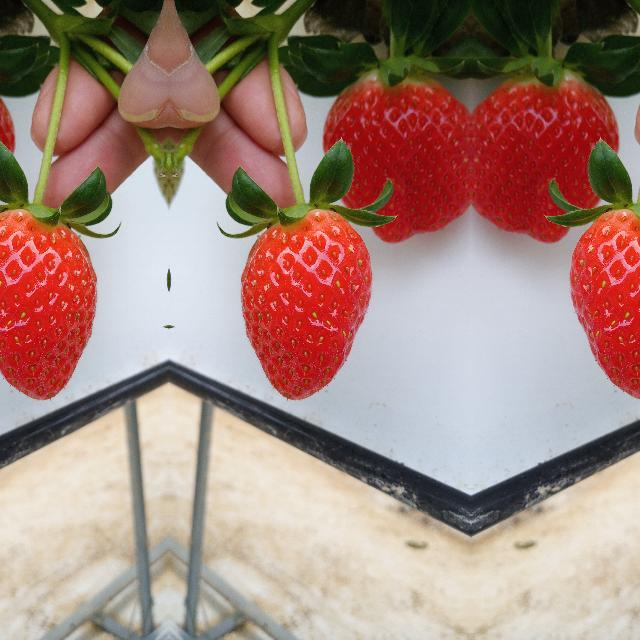Health_100: (322, 68, 470, 242), (472, 68, 618, 242), (240, 208, 372, 400), (0, 208, 96, 400), (568, 208, 640, 400)
